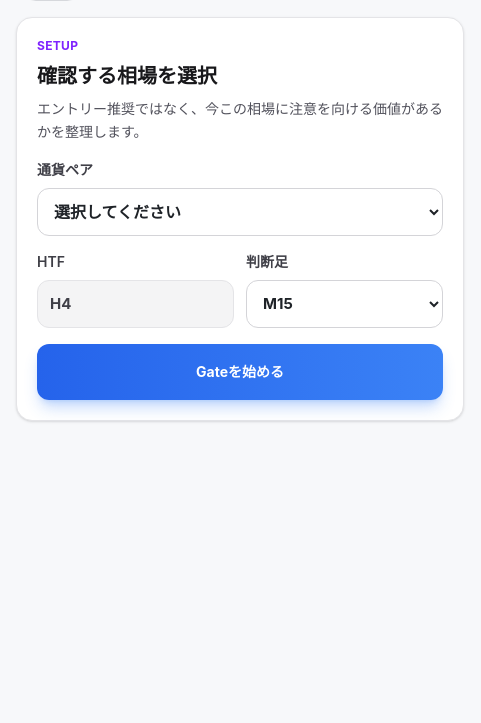
Test: AttentionNavigatorPage › shows Judgment only after all four Gate answers pass
The width and height of the screenshot is (481, 723).
Select "XAU/USD" in the dropdown named "Attention 通貨ペア" at (240, 212), box [37,188,443,236]
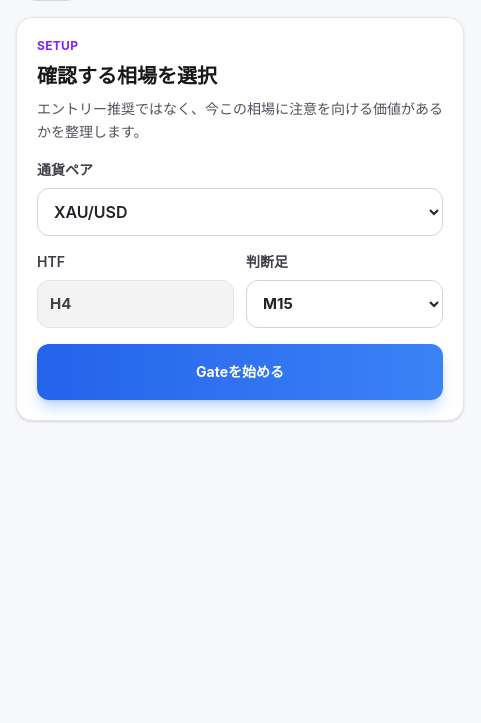
Click the button with test id "attention-setup-start".
click(240, 372)  # box [37,344,443,400]
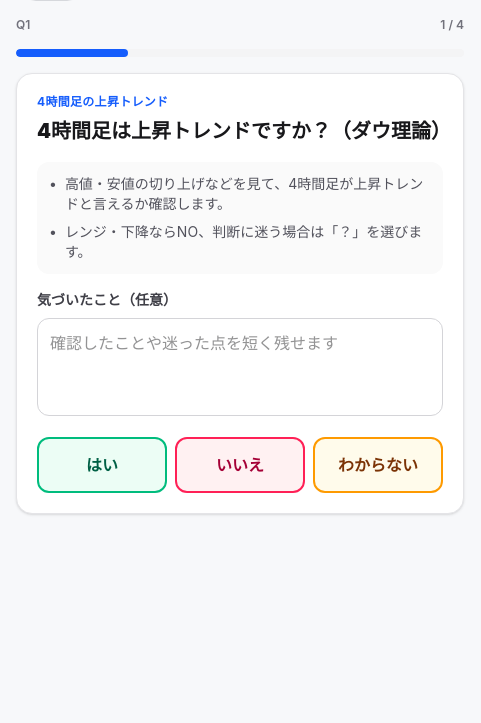
Click the button with test id "attention-answer-yes".
click(102, 464)  # box [37,436,167,492]
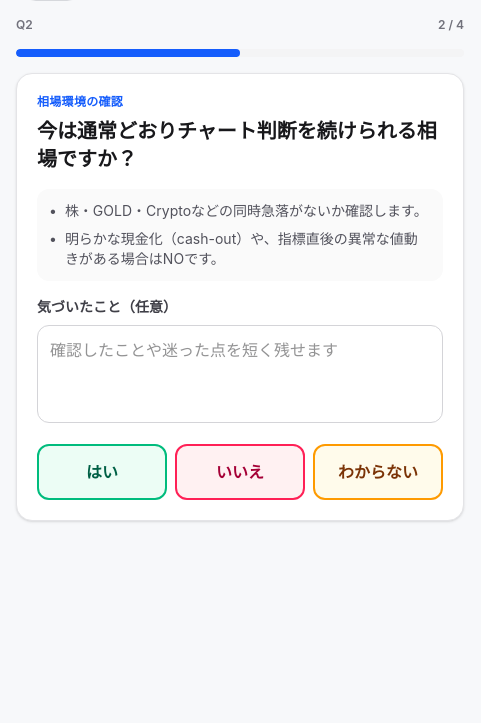
Click the button with test id "attention-answer-yes".
click(102, 472)  # box [37,444,167,500]
(page scrolled)
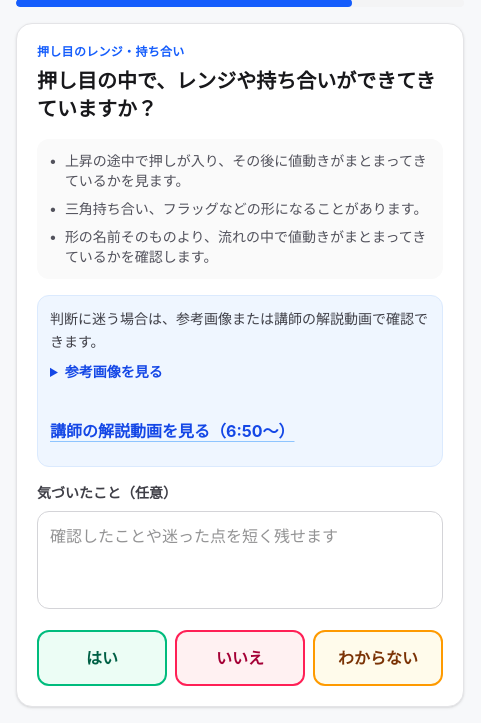
Click the button with test id "attention-answer-yes".
click(102, 658)  # box [37,630,167,686]
(page scrolled)
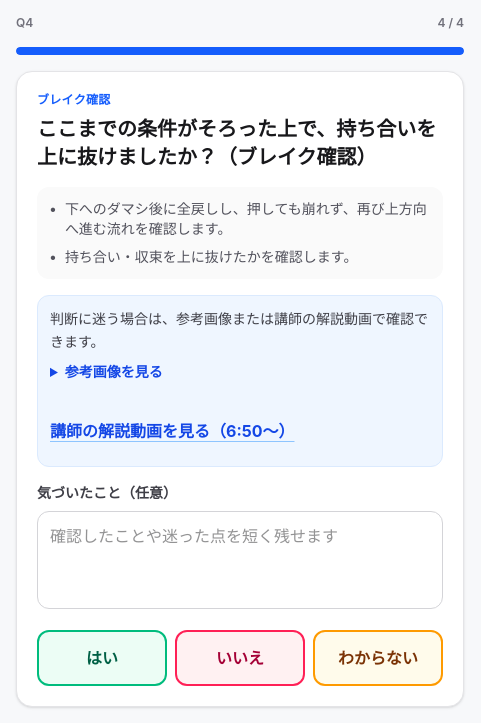
Click the button with test id "attention-answer-yes".
click(102, 658)  # box [37,630,167,686]
(page scrolled)
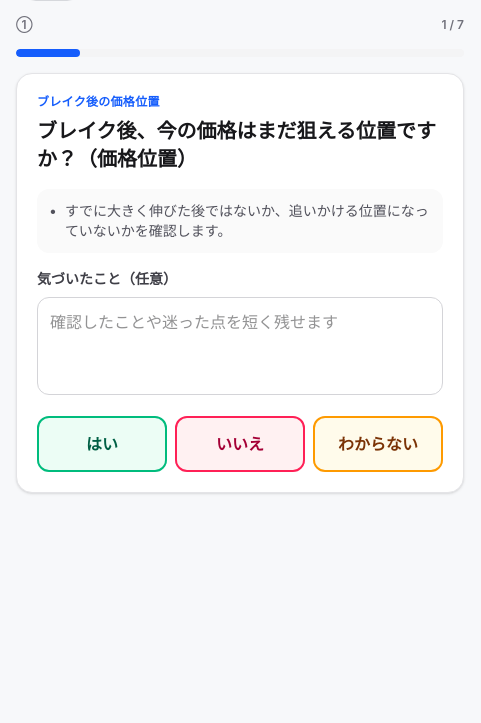
Result: the heading "ブレイク後、今の価格はまだ狙える位置ですか？（価格位置）" is shown at [37,118,443,173]
Result: the text "①" is shown at [16,17,33,33]
